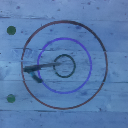Axe Tip: (33, 67, 41, 70)
